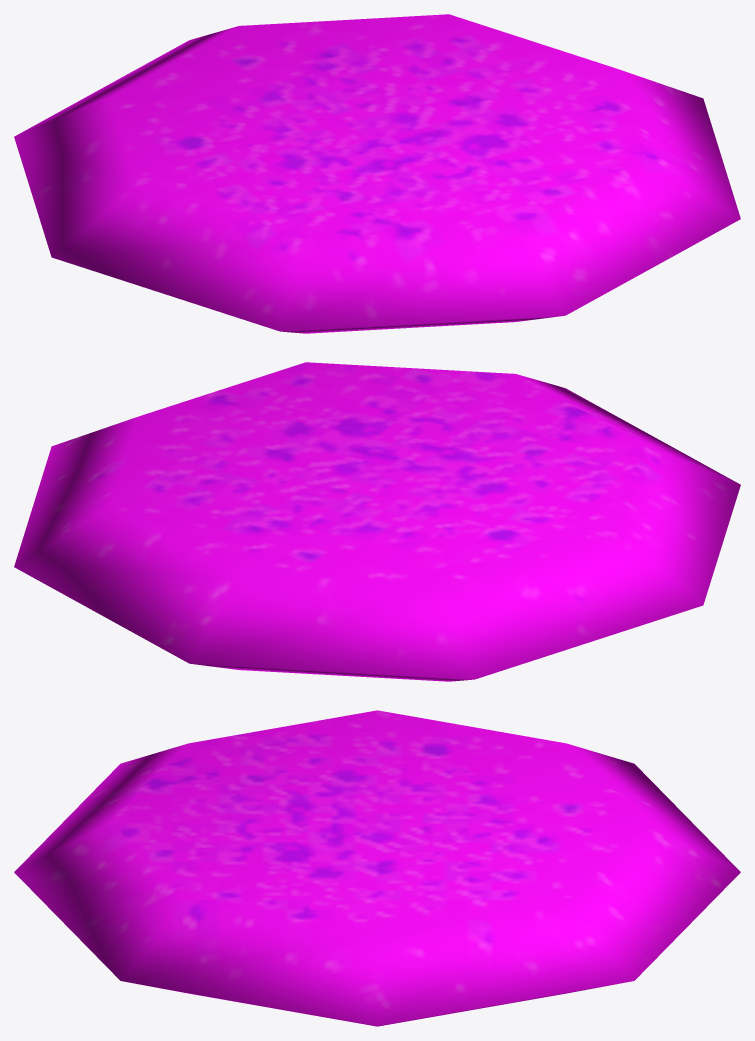
File: INST_SWORDLIGHT_BRIDGEEXTEND-STEP.fbx
3 views of the same model, one above another, from view 1: azimuth 30°, elevation 25°; view 2: azimuth 150°, elevation 25°; view 3: azimuth 270°, elevation 25° (orthographic). The views are drawn at different scales.
Visible parts, largest first — view 1: INST_SWORDLIGHT_BRIDGEEXTEND-STEP; view 2: INST_SWORDLIGHT_BRIDGEEXTEND-STEP; view 3: INST_SWORDLIGHT_BRIDGEEXTEND-STEP.
Part boxes in pixels (x1,y1,x2,y2): INST_SWORDLIGHT_BRIDGEEXTEND-STEP: [14, 14, 740, 333]; INST_SWORDLIGHT_BRIDGEEXTEND-STEP: [14, 362, 740, 681]; INST_SWORDLIGHT_BRIDGEEXTEND-STEP: [14, 710, 740, 1026].
Bounding box in the file's own units: 16456 × 2258 × 16456.
Materials: 1 (1 with a texture image).
